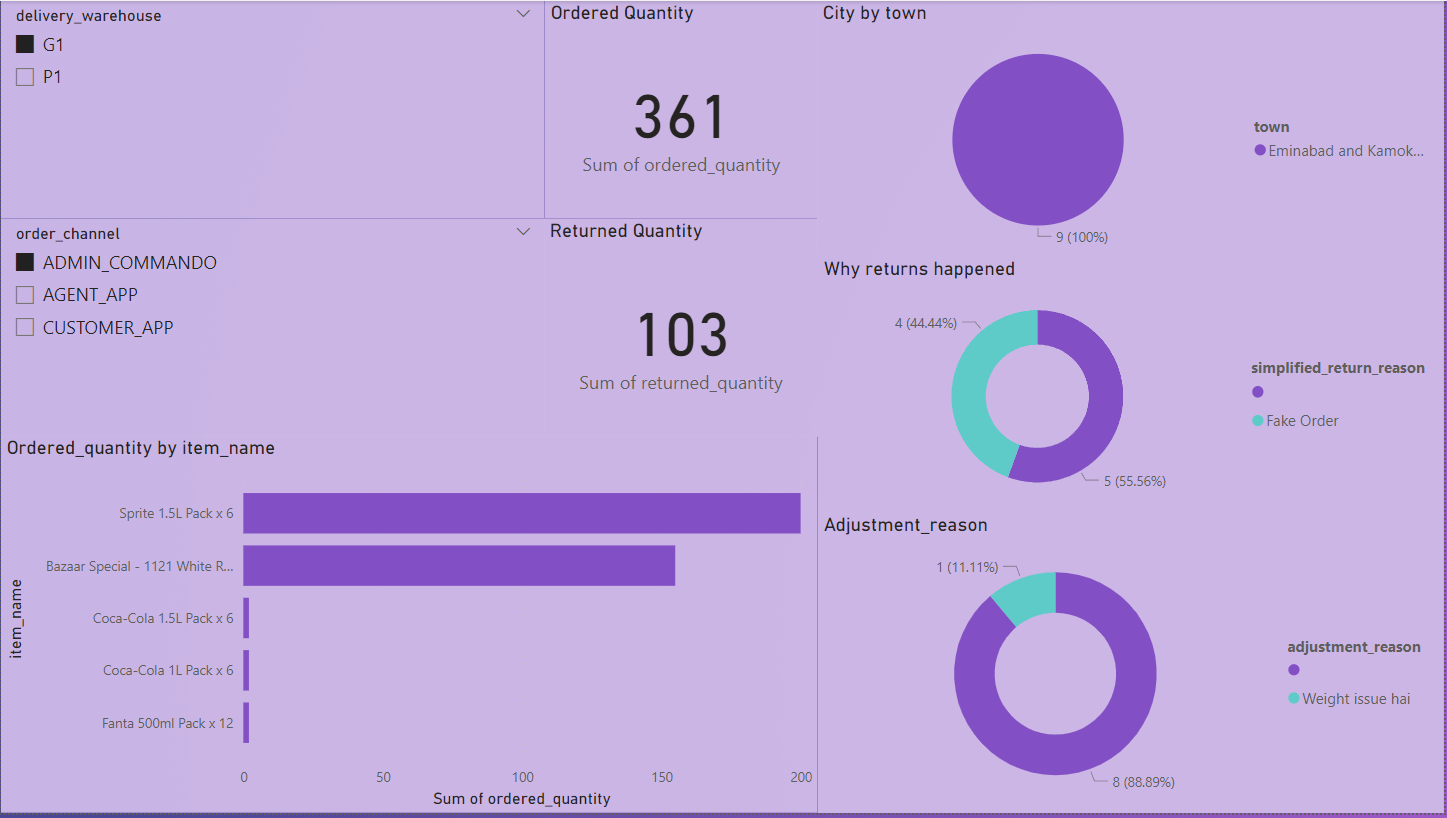

Layout of this report page (visuals, bound fields, positions):
{"tool":"powerbi","page":{"name":"What Happened?","canvas":[1280,720],"ordinal":0},"visuals":[{"type":"slicer","fields":{"Values":["Analytics Case Study Dataset - Bazaar Launchpad 2023.delivery_warehouse"]},"box":[0,0,481.8,193.1],"z":0},{"type":"donutChart","title":"Why returns happened  ","fields":{"Category":["Analytics Case Study Dataset - Bazaar Launchpad 2023.simplified_return_reason"],"Y":["CountNonNull(Analytics Case Study Dataset - Bazaar Launchpad 2023.simplified_return_reason)"]},"box":[724.4,226.7,555.3,227.6],"z":1000},{"type":"pieChart","title":"City by town","fields":{"Y":["CountNonNull(Analytics Case Study Dataset - Bazaar Launchpad 2023.city)"],"Category":["Analytics Case Study Dataset - Bazaar Launchpad 2023.town"]},"box":[723.5,0,556.2,226.7],"z":2000},{"type":"slicer","fields":{"Values":["Analytics Case Study Dataset - Bazaar Launchpad 2023.order_channel"]},"box":[0,193.1,481.8,193.1],"z":3000},{"type":"donutChart","title":"Adjustment_reason","fields":{"Category":["Analytics Case Study Dataset - Bazaar Launchpad 2023.adjustment_reason"],"Y":["CountNonNull(Analytics Case Study Dataset - Bazaar Launchpad 2023.adjustment_reason)"]},"box":[724.4,454.3,555.3,265.7],"z":4000},{"type":"clusteredBarChart","title":"Ordered_quantity by item_name","fields":{"Category":["Analytics Case Study Dataset - Bazaar Launchpad 2023.item_name"],"Y":["Sum(Analytics Case Study Dataset - Bazaar Launchpad 2023.ordered_quantity)"]},"box":[0,386.1,724.4,333.9],"z":5000},{"type":"card","title":"Ordered Quantity","fields":{"Values":["Sum(Analytics Case Study Dataset - Bazaar Launchpad 2023.ordered_quantity)"]},"box":[482,0,242,193],"z":6000},{"type":"card","title":"Returned Quantity","fields":{"Values":["Sum(Analytics Case Study Dataset - Bazaar Launchpad 2023.returned_quantity)"]},"box":[481.8,193.1,242.7,193.1],"z":7000}]}

Visuals, with their boxes in screenshot pixels (x1, y1, x2, y2), scaled from the page's 1280x720 canvas onto the 1447x818 screenshot:
slicer - Analytics Case Study Dataset - Bazaar Launchpad 2023.delivery_warehouse: [x1=0, y1=0, x2=545, y2=219]
"Why returns happened  " donutChart: [x1=819, y1=258, x2=1446, y2=516]
"City by town" pieChart: [x1=818, y1=0, x2=1446, y2=258]
slicer - Analytics Case Study Dataset - Bazaar Launchpad 2023.order_channel: [x1=0, y1=219, x2=545, y2=439]
"Adjustment_reason" donutChart: [x1=819, y1=516, x2=1446, y2=817]
"Ordered_quantity by item_name" clusteredBarChart: [x1=0, y1=439, x2=819, y2=817]
"Ordered Quantity" card: [x1=545, y1=0, x2=818, y2=219]
"Returned Quantity" card: [x1=545, y1=219, x2=819, y2=439]
